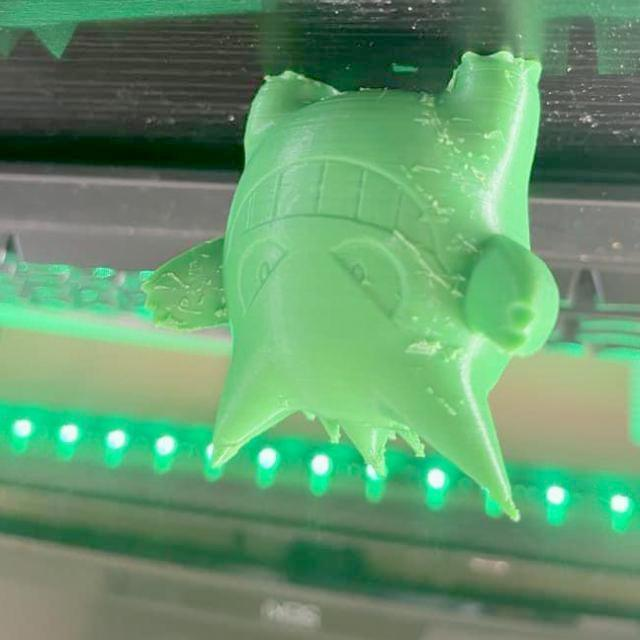zits: (463, 148, 479, 160), (444, 134, 456, 148), (408, 314, 422, 324), (435, 137, 447, 147)
